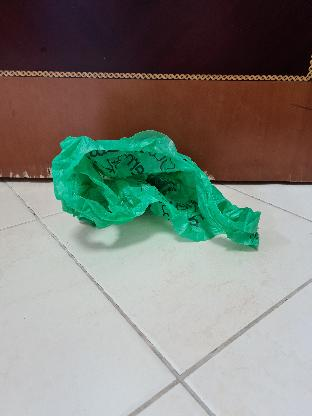Plastic Bag: (52, 130, 260, 250)
